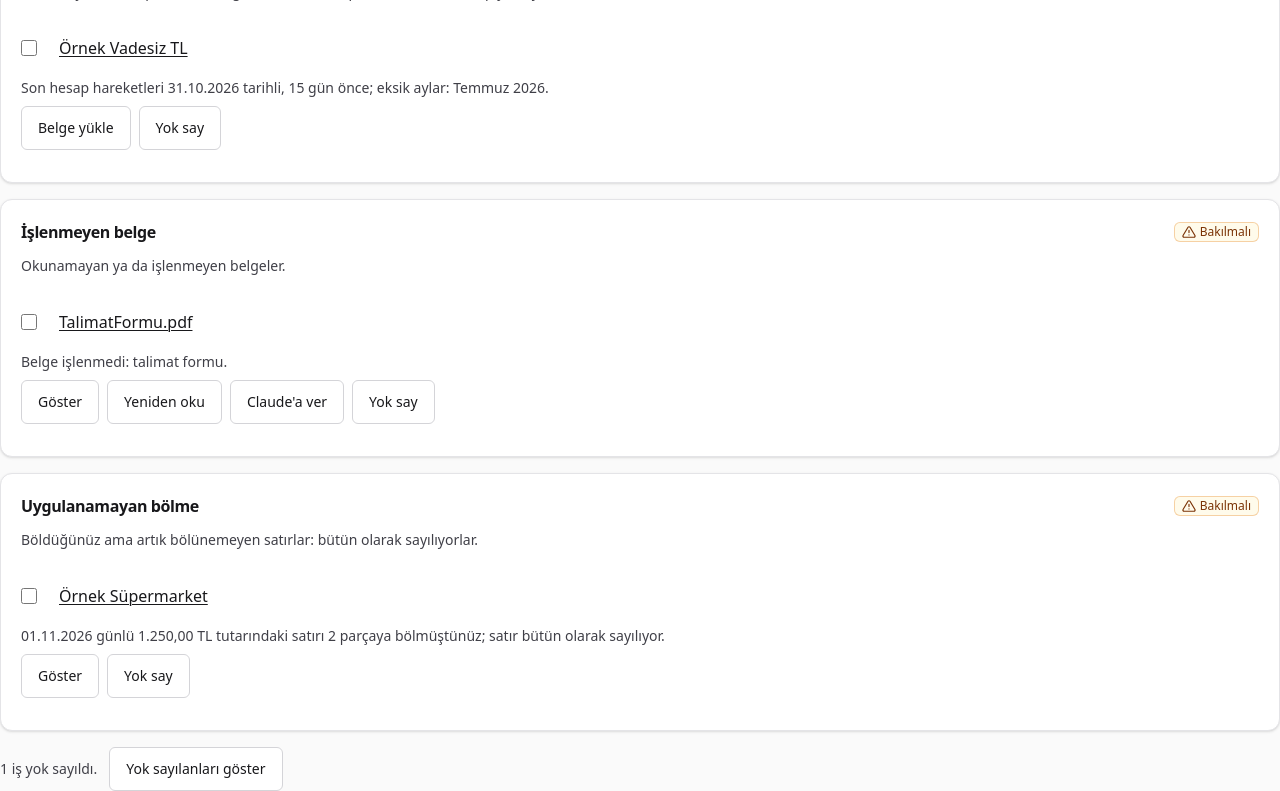
Test case: TodoPage: the steps › lists what was taken off when asked, and puts one back
(page scrolled)
Check: the text "1 iş yok sayıldı." is shown, box [0,759,97,779]
What coordinates should you click on to do the following:
click the button "Yok sayılanları göster"
I would click on:
 (196, 769)
Its box is [109,747,282,790].
(page scrolled)
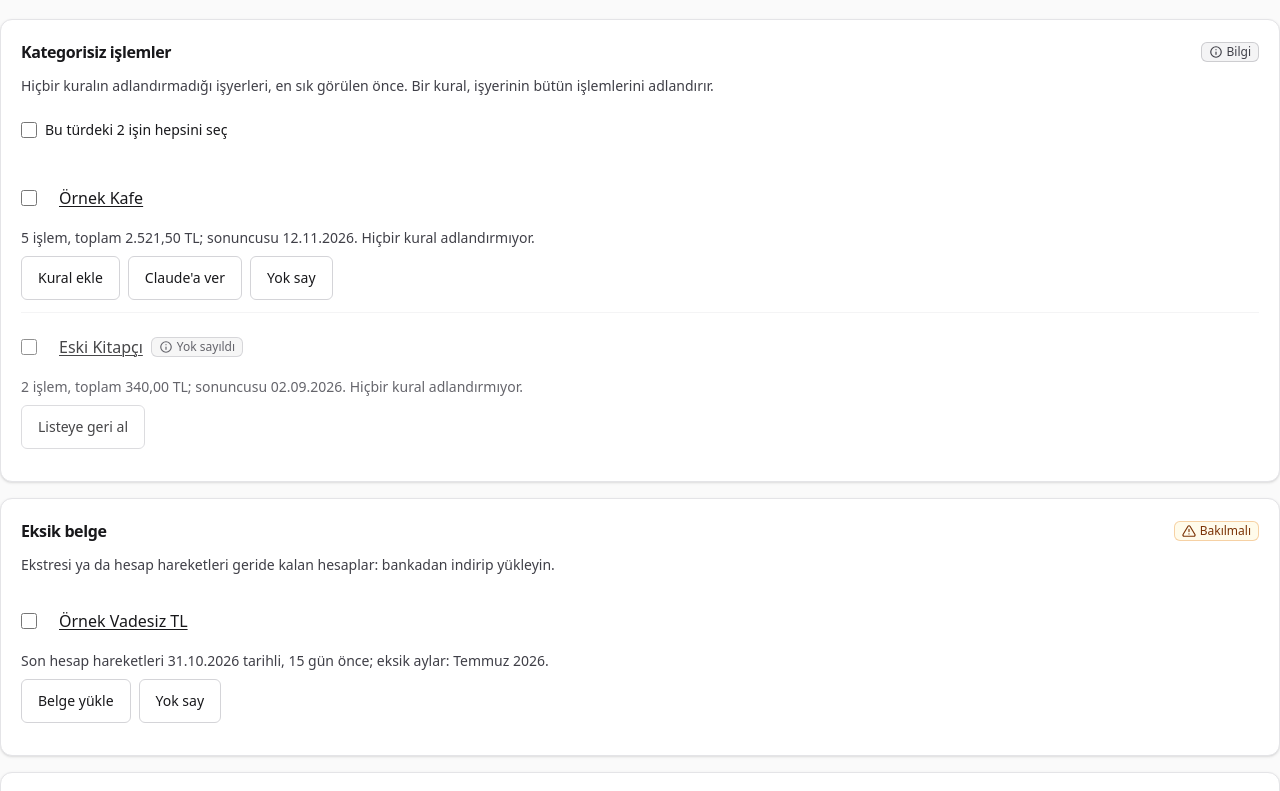
Check: the text "Yok sayıldı" is shown, box [151,337,243,357]
What coordinates should you click on to do the following:
click the button with aria-label "Listeye geri al: Eski Kitapçı"
I would click on:
 (83, 427)
Its box is [21,405,145,449].
(page scrolled)
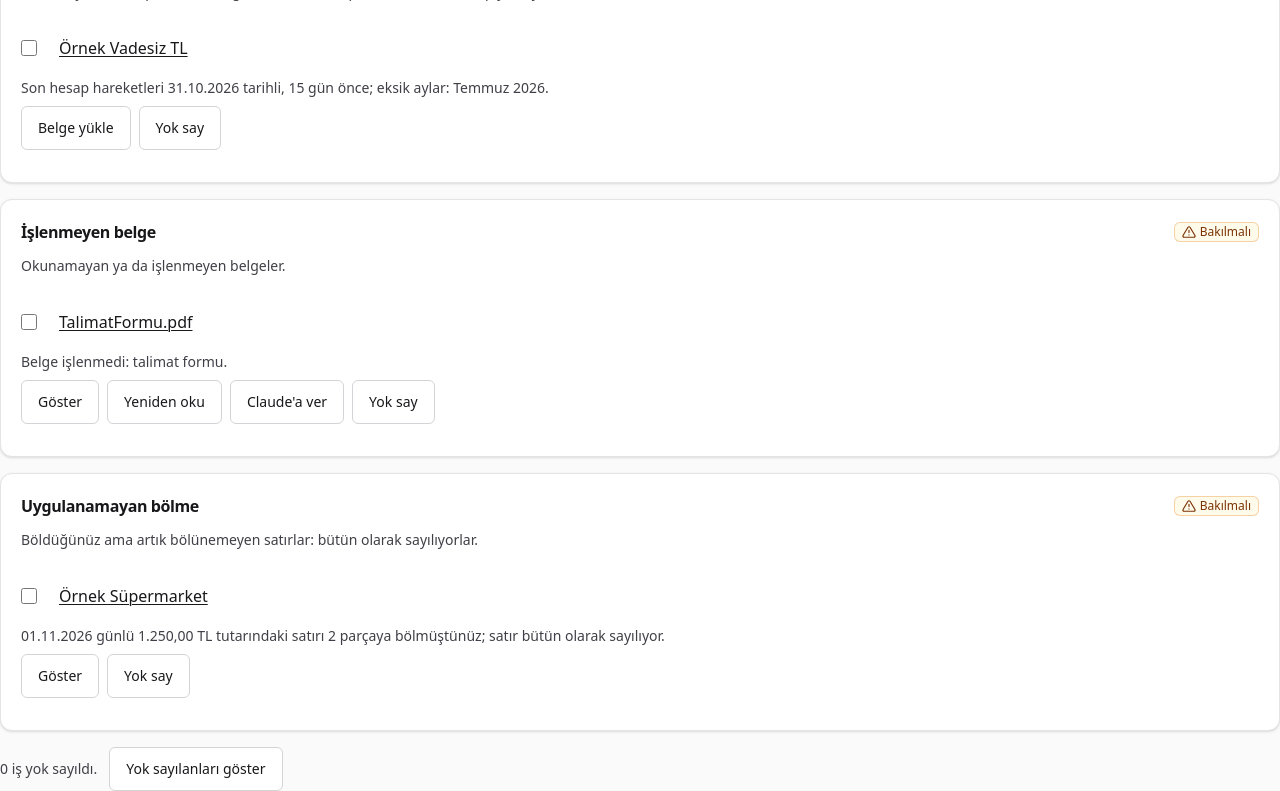
Check: the button "Yok sayılanları göster" is pressed, box [109,747,282,790]
